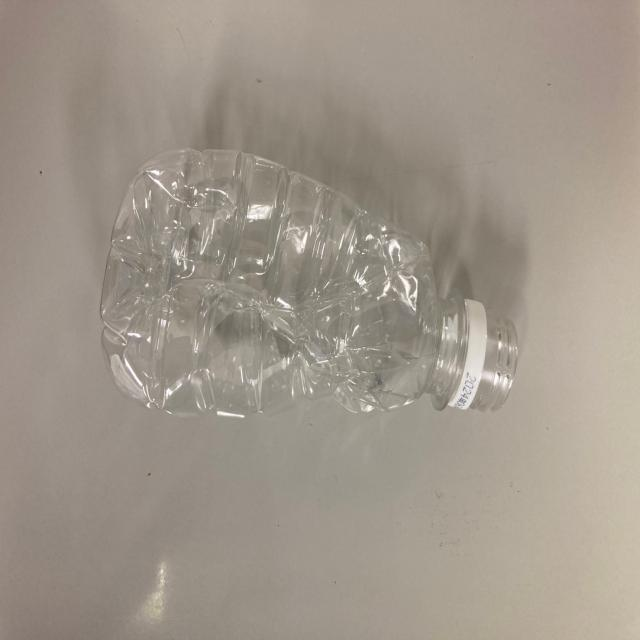Transparent Plastic Bottle: (99, 138, 519, 444)
